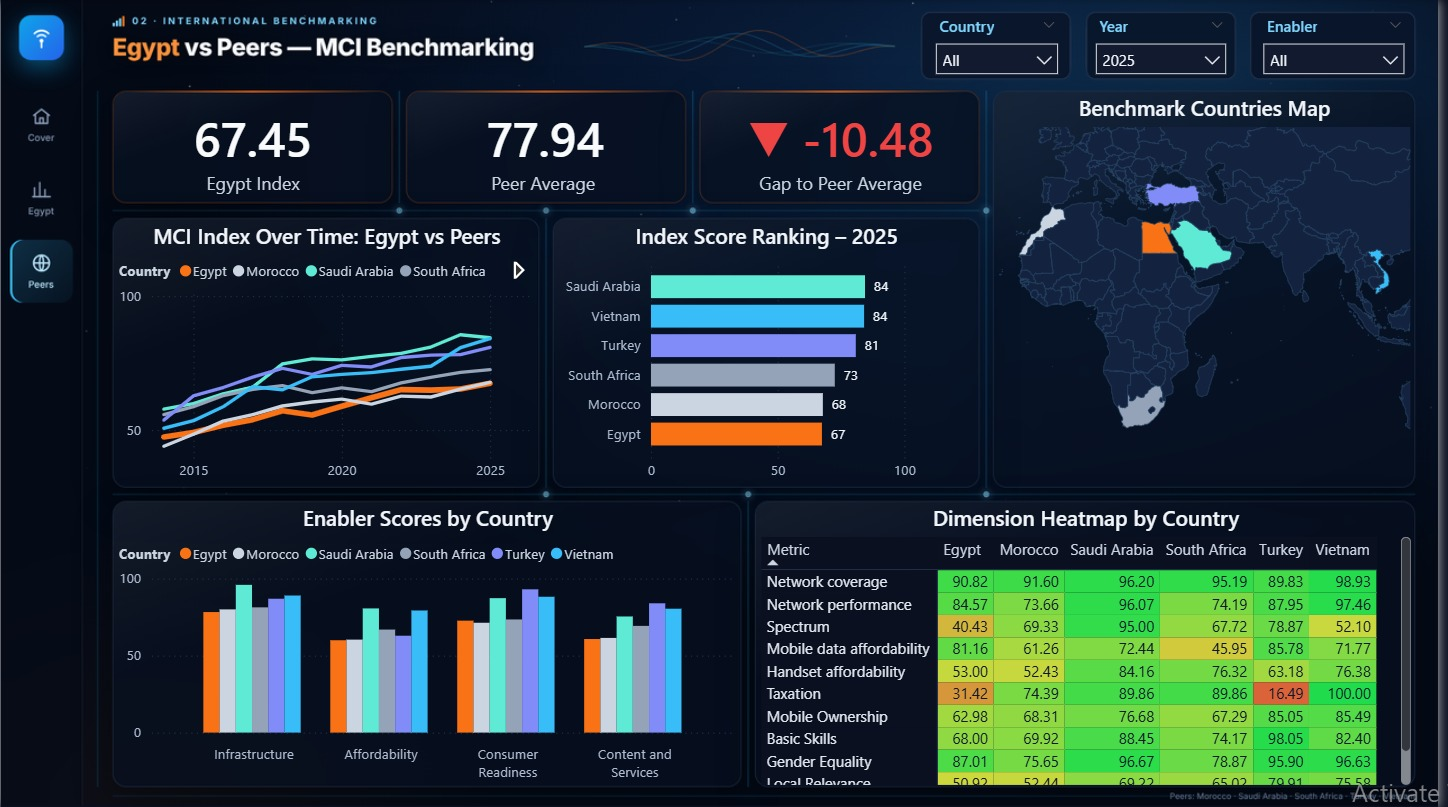

What the dashboard file says about the page in this screenshot:
{"tool":"powerbi","page":{"name":"Benchmarking","canvas":[1280,720],"ordinal":2},"visuals":[{"type":"slicer","fields":{"Values":["Index Scores.Year"]},"box":[966.4,9.7,133.9,59.1],"z":0},{"type":"lineChart","title":"MCI Index Over Time: Egypt vs Peers","fields":{"Category":["Index Scores.Year"],"Y":["_Measures.Index Score"],"Series":["Index Scores.Country"]},"box":[100,197,380,240],"z":1000},{"type":"clusteredBarChart","fields":{"Category":["Index Scores.Country"],"Y":["_Measures.Index Score"]},"box":[492,197,380,240],"z":2000},{"type":"clusteredColumnChart","title":"Enabler Scores by Country","fields":{"Category":["Dim_Metric.Metric"],"Y":["Avg(Index Scores.Score)"],"Series":["Index Scores.Country"]},"box":[100,449,560,255],"z":3000},{"type":"pivotTable","title":"Dimension Heatmap by Country","fields":{"Rows":["Dim_Metric.Metric"],"Values":["Avg(Index Scores.Score)"],"Columns":["Index Scores.Country"]},"box":[672,449,588,255],"z":4000},{"type":"card","fields":{"Values":["_Measures.Egypt Index"]},"box":[100,83,249,100],"z":5000},{"type":"card","fields":{"Values":["_Measures.Peer Avg Index"]},"box":[361,83,249,100],"z":6000},{"type":"card","fields":{"Values":["_Measures.Gap Display"]},"box":[623,83,249,100],"z":7000},{"type":"slicer","fields":{"Values":["Index Scores.Country"]},"box":[824,9.7,126.7,59.1],"z":8000},{"type":"slicer","fields":{"Values":["Dim_Metric.Enabler"]},"box":[1116,9.7,143.6,71.2],"z":9000},{"type":"shapeMap","title":"Benchmark Countries Map","fields":{"Category":["Index Scores.Country"]},"box":[884,83,376,353],"z":10000},{"type":"actionButton","box":[0,83.2,71.2,51.9],"z":11000},{"type":"actionButton","box":[0,150.8,71.2,55.5],"z":12000}]}

Visuals, with their boxes on the page's 1280x720 design canvas (x1, y1, x2, y2). These are canvas units, not pixel positions in the 1448x807 screenshot, which may show the page scaled, cropped or inside an application window:
slicer - Index Scores.Year: 966/10/1100/69
"MCI Index Over Time: Egypt vs Peers" lineChart: 100/197/480/437
clusteredBarChart - Index Scores.Country x _Measures.Index Score: 492/197/872/437
"Enabler Scores by Country" clusteredColumnChart: 100/449/660/704
"Dimension Heatmap by Country" pivotTable: 672/449/1260/704
card - _Measures.Egypt Index: 100/83/349/183
card - _Measures.Peer Avg Index: 361/83/610/183
card - _Measures.Gap Display: 623/83/872/183
slicer - Index Scores.Country: 824/10/951/69
slicer - Dim_Metric.Enabler: 1116/10/1260/81
"Benchmark Countries Map" shapeMap: 884/83/1260/436
actionButton: 0/83/71/135
actionButton: 0/151/71/206
